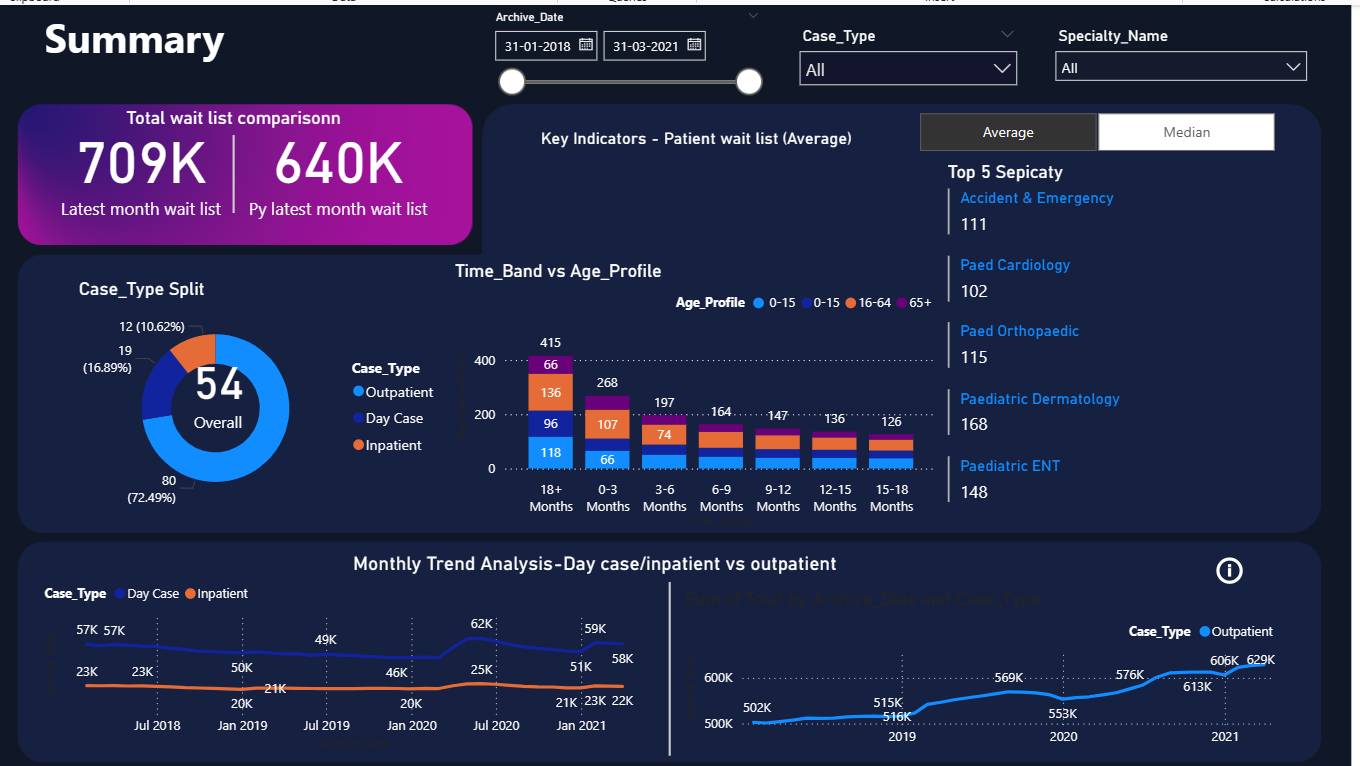

What the dashboard file says about the page in this screenshot:
{"tool":"powerbi","page":{"name":"Summary ","canvas":[1280,720],"ordinal":0},"visuals":[{"type":"card","fields":{"Values":["All_Data.Latest month wait list"]},"box":[48.2,96.3,191,112.4],"z":0},{"type":"card","fields":{"Values":["All_Data.Py latest month wait list"]},"box":[224,96,208,112],"z":1000},{"type":"slicer","fields":{"Values":["Calculation method.Calc method"]},"box":[849.2,95.4,383.1,49.2],"z":2000},{"type":"donutChart","title":" Case_Type Split","fields":{"Category":["All_Data.Case_Type"],"Y":["All_Data.Avg/med wait list"]},"box":[80,256,352,224],"z":3000},{"type":"columnChart","title":"Time_Band vs Age_Profile","fields":{"Y":["All_Data.Avg/med wait list"],"Category":["All_Data.Time_Bands"],"Series":["All_Data.Age_Profile"]},"box":[433.5,239.2,462.4,256.9],"z":4000},{"type":"multiRowCard","title":"Top 5 Sepicaty","fields":{"Values":["All_Data.Specialty_Name","All_Data.Avg/med wait list"]},"box":[895.8,146.1,337.1,350],"z":5000},{"type":"card","fields":{"Values":["All_Data.NoDataRight"]},"box":[760,547.7,273.8,147.7],"z":6000},{"type":"lineChart","fields":{"Category":["All_Data.Archive_Date"],"Y":["Sum(All_Data.Total)"],"Series":["All_Data.Case_Type"]},"box":[48.2,533,576.4,171.8],"z":7000},{"type":"card","fields":{"Values":["All_Data.NoDataLeft"]},"box":[200,535.4,273.8,147.7],"z":8000},{"type":"lineChart","fields":{"Category":["All_Data.Archive_Date"],"Y":["Sum(All_Data.Total)"],"Series":["All_Data.Case_Type"]},"box":[648.6,547.5,566.7,157.3],"z":9000},{"type":"slicer","fields":{"Values":["All_Data.Archive_Date"]},"box":[464,0,272,96],"z":10000},{"type":"slicer","fields":{"Values":["All_Data.Case_Type"]},"box":[752,16,224,64],"z":11000},{"type":"slicer","fields":{"Values":["All_Data.Specialty_Name"]},"box":[992,16,256,64],"z":12000},{"type":"textbox","box":[48,0,352,64],"z":13000},{"type":"card","fields":{"Values":["All_Data.Avg/med wait list"]},"box":[160,304,112,112],"z":14000},{"type":"shape","title":"Total wait list comparisonn","box":[80.3,96.3,300.2,99.5],"z":15000},{"type":"shape","title":"Monthly Trend Analysis-Day case/inpatient vs outpatient","box":[343.1,513.8,593.8,190.8],"z":16000},{"type":"card","fields":{"Values":["All_Data.Dynamic Title"]},"box":[499.3,80.3,330.7,91.5],"z":17000},{"type":"actionButton","box":[1147.7,513.8,67.7,33.8],"z":18000}]}

Visuals, with their boxes in screenshot pixels (x1, y1, x2, y2), scaled from the page's 1280x720 canvas onto the 1360x766 screenshot:
card - All_Data.Latest month wait list: rect(51, 102, 254, 222)
card - All_Data.Py latest month wait list: rect(238, 102, 459, 221)
slicer - Calculation method.Calc method: rect(902, 101, 1309, 154)
" Case_Type Split" donutChart: rect(85, 272, 459, 511)
"Time_Band vs Age_Profile" columnChart: rect(461, 254, 952, 528)
"Top 5 Sepicaty" multiRowCard: rect(952, 155, 1310, 528)
card - All_Data.NoDataRight: rect(808, 583, 1098, 740)
lineChart - All_Data.Archive_Date x Sum(All_Data.Total): rect(51, 567, 664, 750)
card - All_Data.NoDataLeft: rect(212, 570, 503, 727)
lineChart - All_Data.Archive_Date x Sum(All_Data.Total): rect(689, 582, 1291, 750)
slicer - All_Data.Archive_Date: rect(493, 0, 782, 102)
slicer - All_Data.Case_Type: rect(799, 17, 1037, 85)
slicer - All_Data.Specialty_Name: rect(1054, 17, 1326, 85)
textbox: rect(51, 0, 425, 68)
card - All_Data.Avg/med wait list: rect(170, 323, 289, 443)
"Total wait list comparisonn" shape: rect(85, 102, 404, 208)
"Monthly Trend Analysis-Day case/inpatient vs outpatient" shape: rect(365, 547, 995, 750)
card - All_Data.Dynamic Title: rect(531, 85, 882, 183)
actionButton: rect(1219, 547, 1291, 583)
